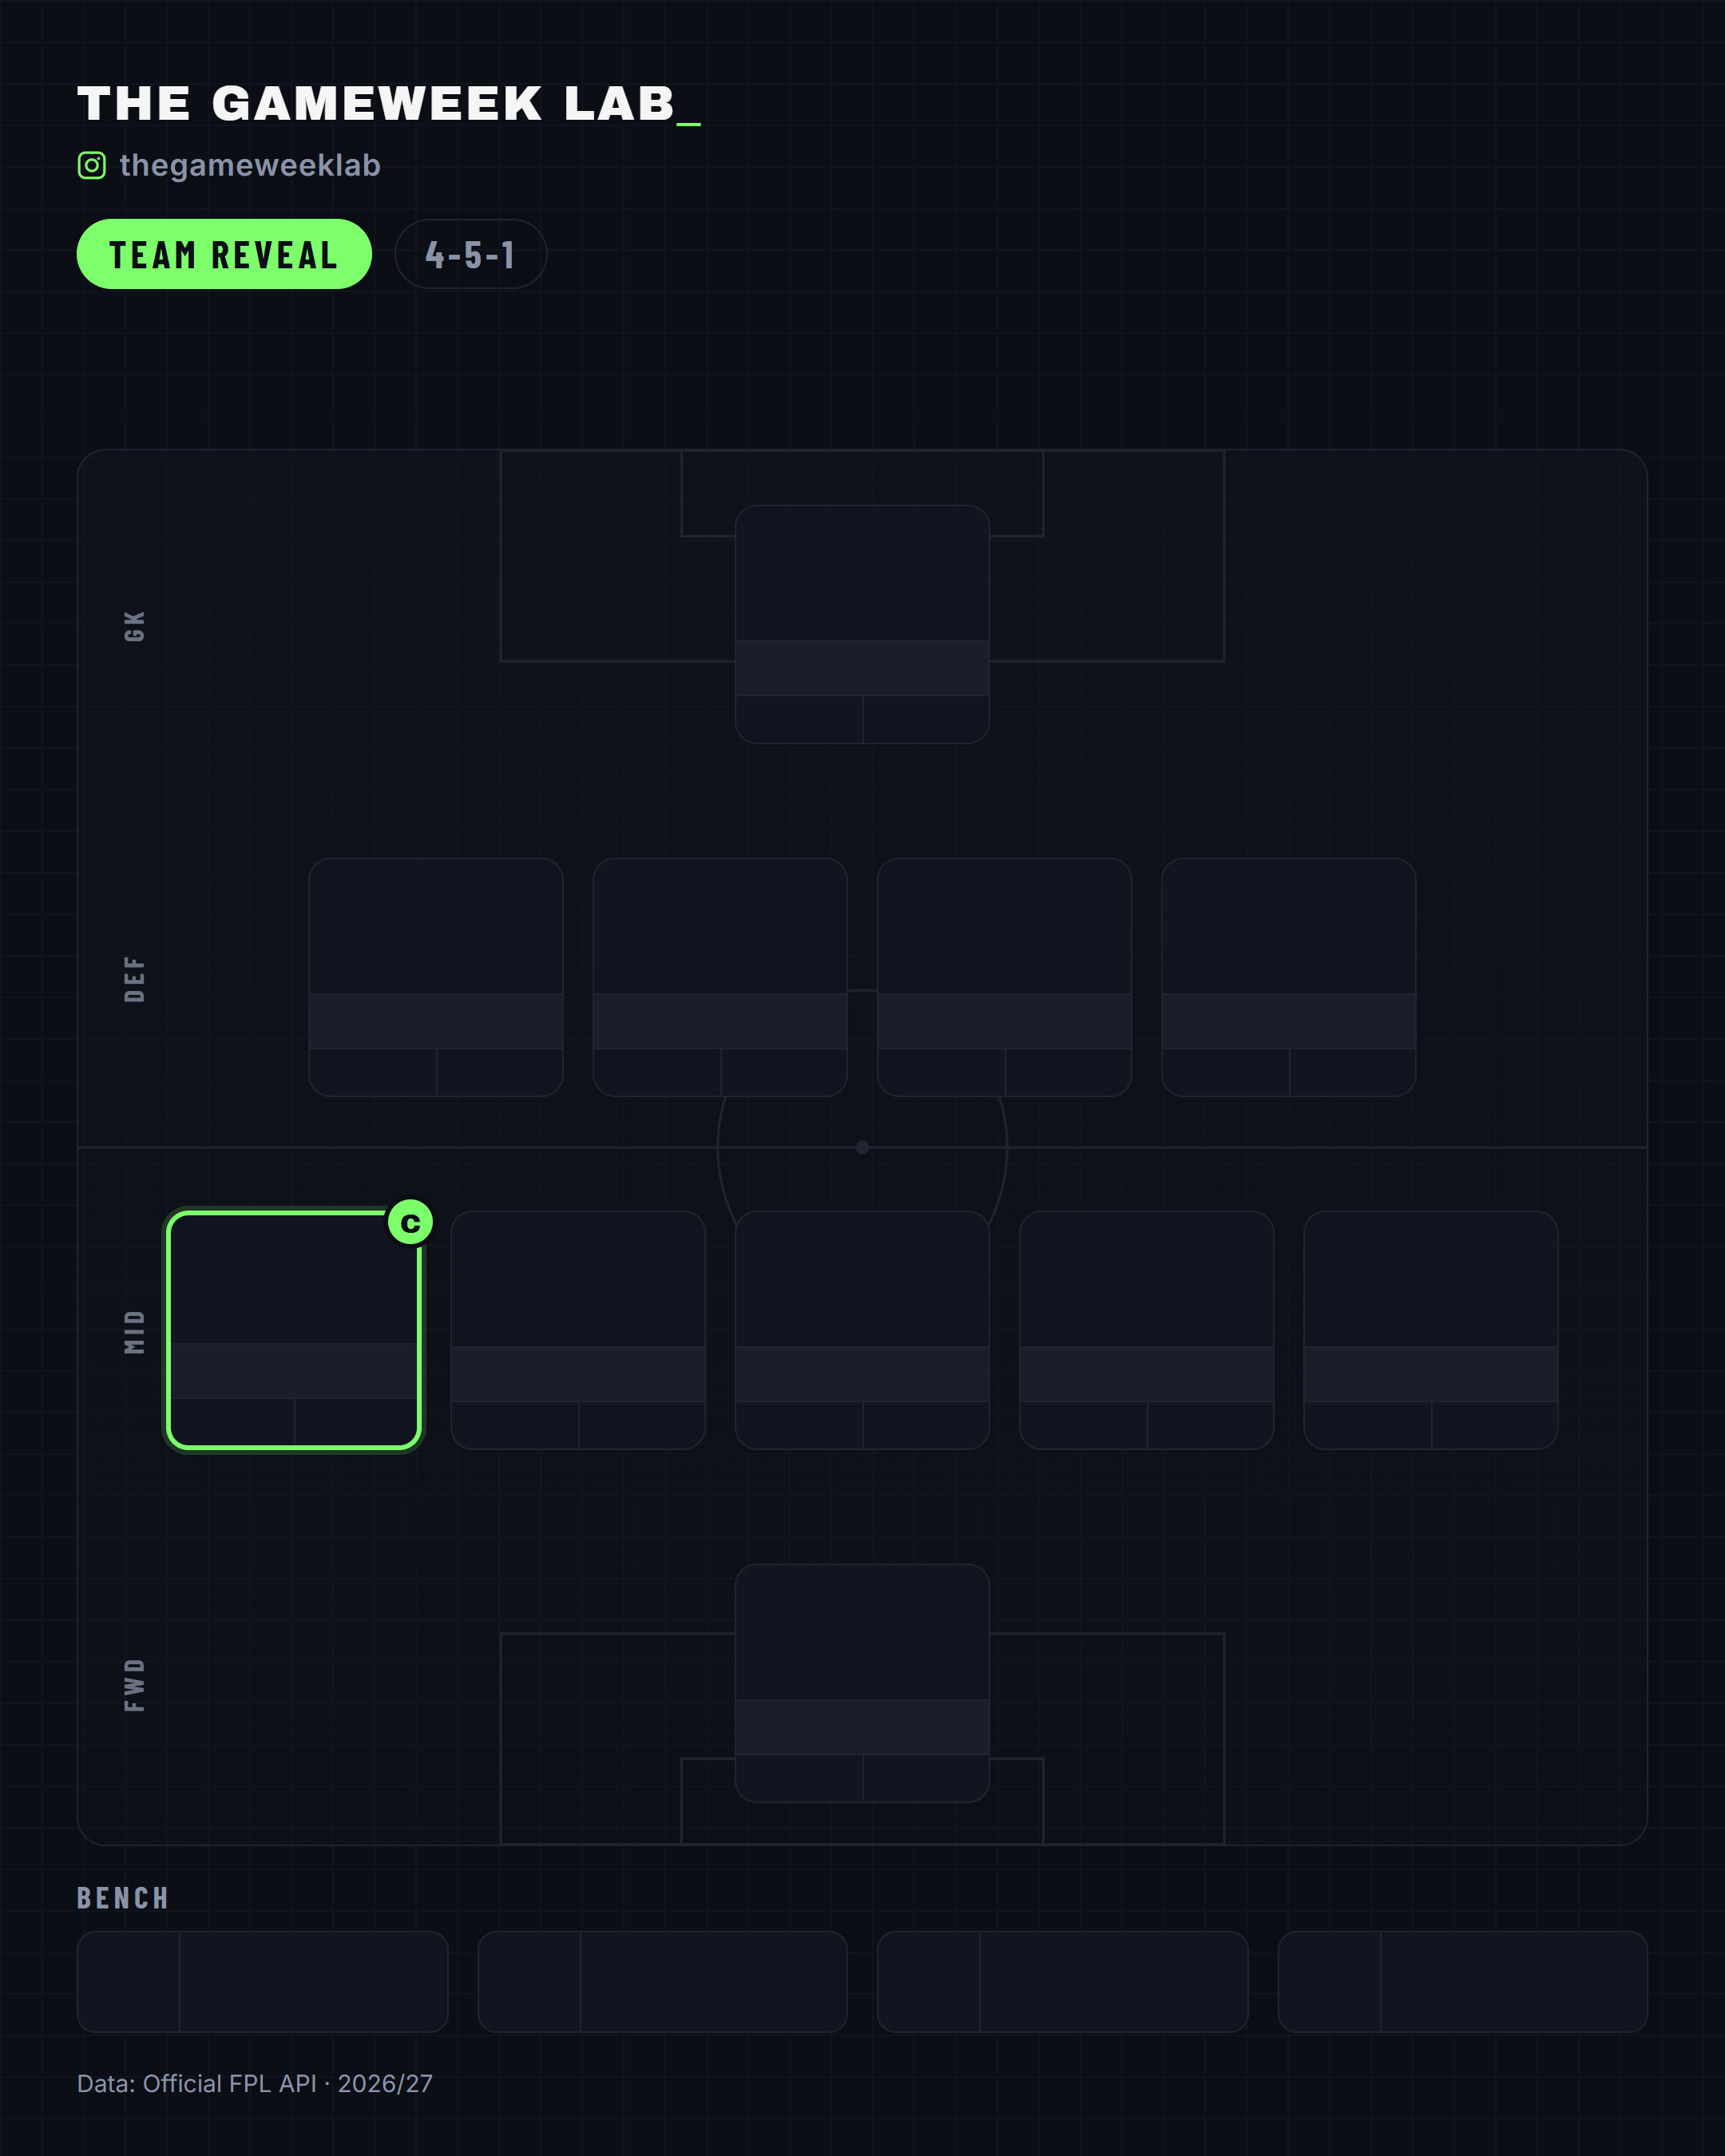

This screenshot's page, from the dashboard's own definition file:
{"tool":"tableau","page":{"name":"Team Reveal","canvas":[1080,1350],"ordinal":0},"visuals":[{"type":"image","param":"C:/Users/vinil/OneDrive/Documentos/Coding/FPL/data/Tableau Workbooks/Images/gwla","box":[0,0,1080,1350]},{"type":"worksheet","title":"GW Number","mark":"Text","box":[937,53,104,26]},{"type":"worksheet","title":"XI xP - GW","mark":"Automatic","box":[53,200,178,78]},{"type":"worksheet","title":"full squad spend","mark":"Automatic","box":[235,200,178,78]},{"type":"worksheet","title":"invested in the bench","mark":"Automatic","box":[417,200,178,78]},{"type":"worksheet","title":"Base Build (GKP)","mark":"Automatic","cols":["photo_url"],"box":[457,317,171,150]},{"type":"worksheet","title":"Base Build (DEF)","mark":"Automatic","cols":["photo_url"],"box":[176,535,723,150]},{"type":"worksheet","title":"Base Build (MID)","mark":"Automatic","cols":["photo_url"],"box":[96,756,895,150]},{"type":"worksheet","title":"Base Build (FWD)","mark":"Automatic","cols":["photo_url"],"box":[461,978,165,150]},{"type":"worksheet","title":"Bench 1","mark":"Automatic","rows":["position"],"box":[49,1210,232,62]},{"type":"worksheet","title":"Bench 2","mark":"Automatic","rows":["position"],"box":[300,1210,232,62]},{"type":"worksheet","title":"Bench 3","mark":"Automatic","rows":["position"],"box":[548,1210,234,62]},{"type":"worksheet","title":"Bench 4","mark":"Automatic","rows":["position"],"box":[801,1210,232,62]}]}

Visuals, with their boxes in screenshot pixels (x1, y1, x2, y2), scaled from the page's 1080x1350 canvas onto the 1725x2156 screenshot:
image: x1=0 y1=0 x2=1724 y2=2155
"GW Number" worksheet (Text marks): x1=1497 y1=85 x2=1663 y2=126
"XI xP - GW" worksheet: x1=85 y1=319 x2=369 y2=444
"full squad spend" worksheet: x1=375 y1=319 x2=660 y2=444
"invested in the bench" worksheet: x1=666 y1=319 x2=950 y2=444
"Base Build (GKP)" worksheet: x1=730 y1=506 x2=1003 y2=746
"Base Build (DEF)" worksheet: x1=281 y1=854 x2=1436 y2=1094
"Base Build (MID)" worksheet: x1=153 y1=1207 x2=1583 y2=1447
"Base Build (FWD)" worksheet: x1=736 y1=1562 x2=1000 y2=1801
"Bench 1" worksheet: x1=78 y1=1932 x2=449 y2=2031
"Bench 2" worksheet: x1=479 y1=1932 x2=850 y2=2031
"Bench 3" worksheet: x1=875 y1=1932 x2=1249 y2=2031
"Bench 4" worksheet: x1=1279 y1=1932 x2=1650 y2=2031
